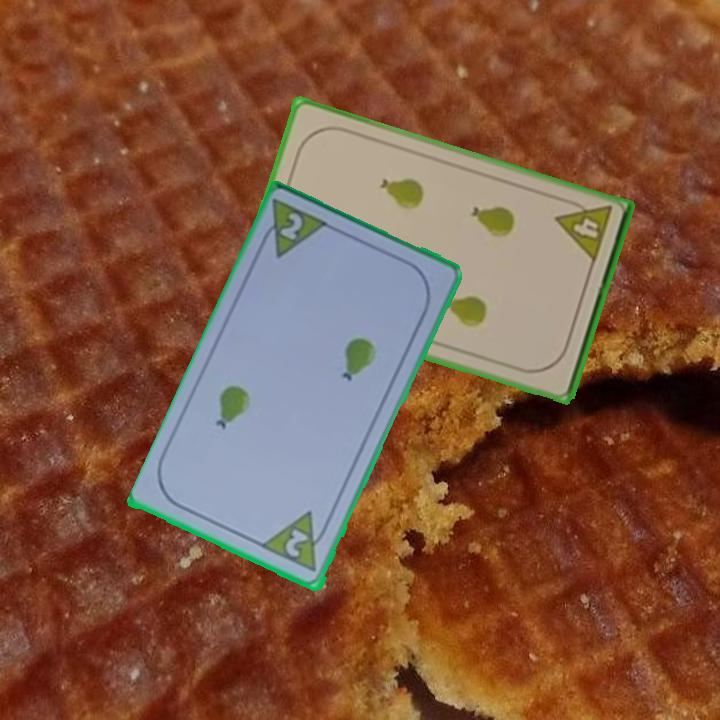2p: (281, 526, 312, 561), (276, 209, 306, 244)
4p: (552, 195, 615, 266)
